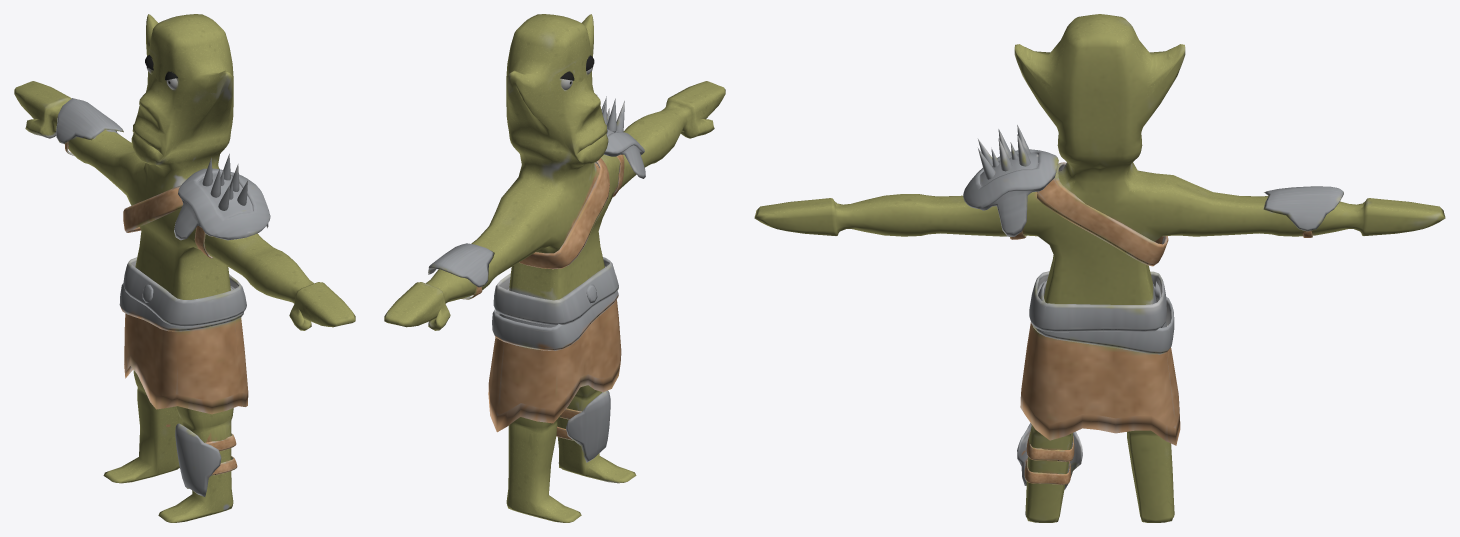
Rendered from Monster_T-Pose.fbx.
3 renders of one model, left to right at view 1: azimuth 30°, elevation 25°; view 2: azimuth 150°, elevation 25°; view 3: azimuth 270°, elevation 25°, orthographic. The views are drawn at different scales.
Visible parts, largest first — view 1: Monster, Skirt, ArmShield, belt, LegShield, LegShield1, belt4, belt3; view 2: Monster, Skirt, belt, belt3, belt4, LegShield, LegShield1, ArmShield; view 3: Monster, Skirt, belt, ArmShield, belt4, LegShield1, belt3.
Part boxes in pixels (x1,y1,x2,y2): Monster: (14,14,355,522); Skirt: (124,288,248,414); ArmShield: (174,168,270,240); belt: (123,257,246,326); LegShield: (175,423,221,496); LegShield1: (56,98,123,143); belt4: (123,185,182,232); belt3: (119,283,243,331); Monster: (384,14,725,522); Skirt: (488,266,621,432); belt: (493,257,618,325); belt3: (492,291,618,350); belt4: (519,158,609,269); LegShield: (566,390,610,462); LegShield1: (428,243,494,287); ArmShield: (604,129,645,178); Monster: (754,14,1445,522); Skirt: (1020,281,1180,445); belt: (1029,271,1167,332); ArmShield: (963,149,1058,236); belt4: (1037,162,1168,266); LegShield1: (1263,186,1343,231); belt3: (1032,281,1174,354).
Bounding box in the file's own units: 1.32 × 6.22 × 7.79.
